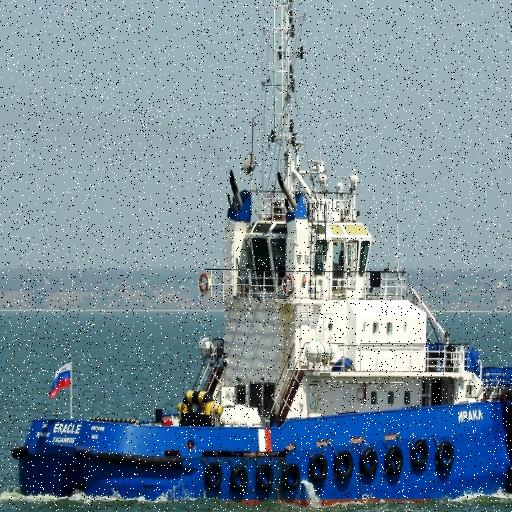tugboat: (10, 153, 512, 512)
